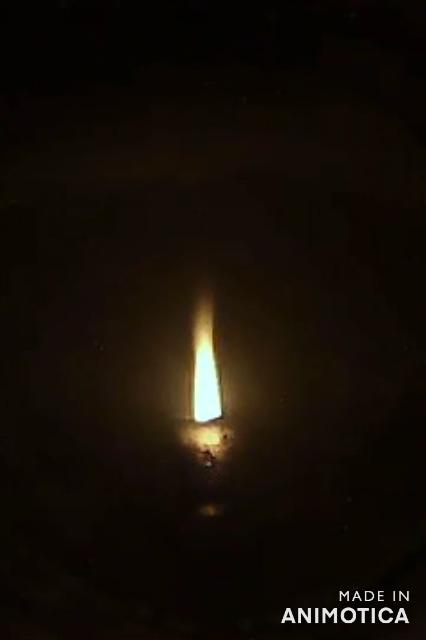burner flame: (190, 286, 226, 426)
